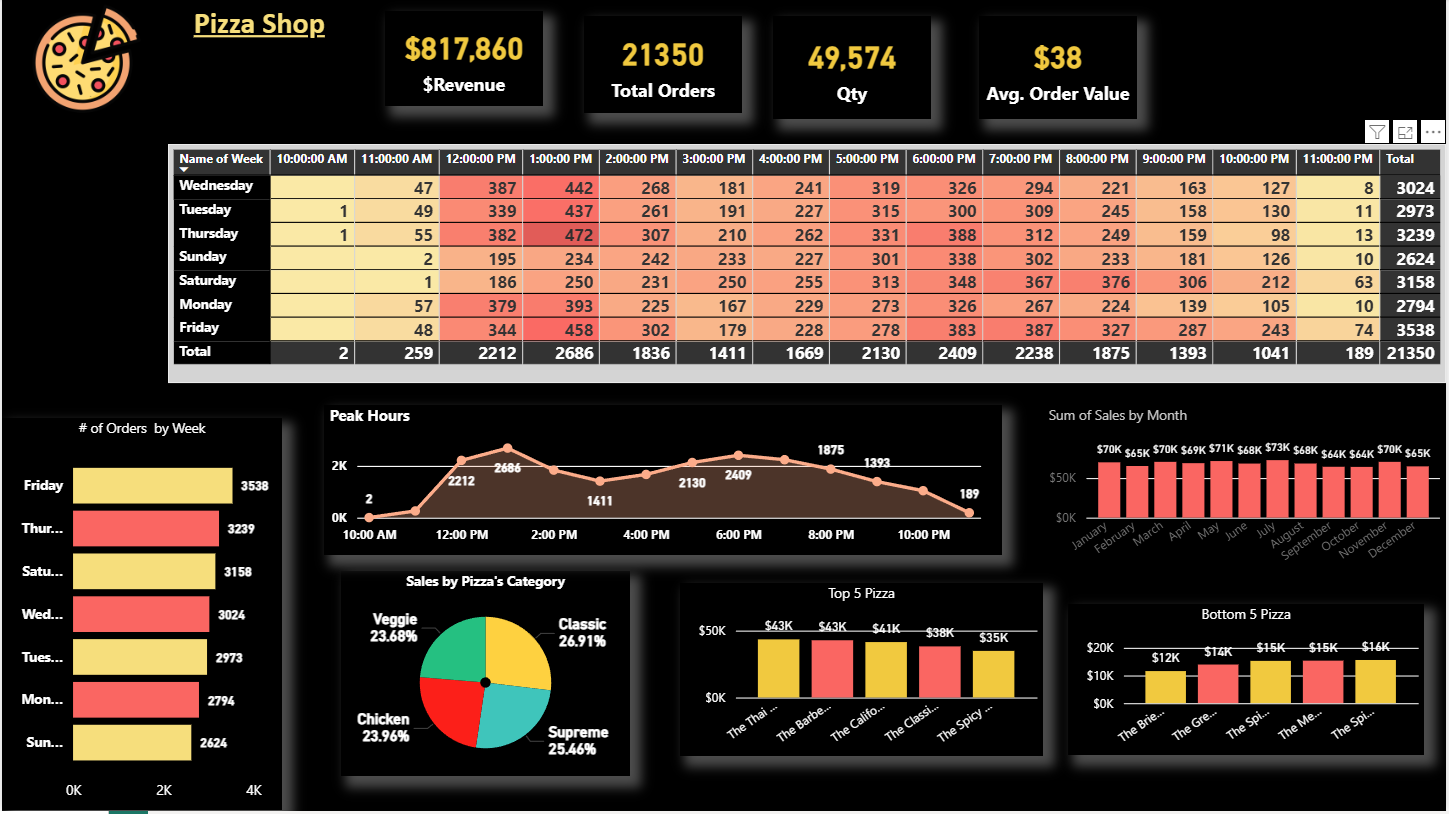

The dashboard page shown, as its layout file describes it:
{"tool":"powerbi","page":{"name":"Duplicate of Page 1","canvas":[1280,720],"ordinal":0},"visuals":[{"type":"card","fields":{"Values":["Sum(order_details.Sales)"]},"box":[339.6,10.6,140.1,84.2],"z":0},{"type":"card","fields":{"Values":["order_details.Total Orders"]},"box":[516.1,15.1,140.1,86],"z":1000},{"type":"card","fields":{"Values":["Sum(order_details.quantity)"]},"box":[683.6,15.1,140.1,91.3],"z":2000},{"type":"donutChart","title":"Sales by Pizza''s Category","fields":{"Category":["pizza_types.category"],"Y":["Sum(order_details.Sales)"]},"box":[300.6,507.2,256.3,181.8],"z":3000},{"type":"areaChart","title":"Peak Hours","fields":{"Category":["orders.Custom_Time"],"Y":["order_details.Number of Orders"]},"box":[285.5,360,601.2,133],"z":4000},{"type":"clusteredBarChart","title":"# of Orders  by Week","fields":{"Category":["orders.Name of Week"],"Y":["order_details.Number of Orders"]},"box":[0,371.5,248.3,348.5],"z":5000},{"type":"pivotTable","fields":{"Rows":["orders.Name of Week"],"Columns":["orders.Custom_Time"],"Values":["Count(orders.order_id)"]},"box":[147.2,128.6,1133.2,211.9],"z":6000},{"type":"image","box":[8.9,0,132.1,106.4],"z":7000},{"type":"textbox","box":[165.2,0,166.4,47],"z":8000},{"type":"card","fields":{"Values":["order_details.Avg. Order Value"]},"box":[866.3,15.1,140.1,91.3],"z":9000},{"type":"columnChart","title":"Top 5 Pizza","fields":{"Category":["pizza_types.name"],"Y":["Sum(order_details.Sales)"]},"box":[601.2,517.8,321.9,152.5],"z":10000},{"type":"columnChart","title":"Bottom 5 Pizza","fields":{"Category":["pizza_types.name"],"Y":["Sum(order_details.Sales)"]},"box":[945.2,536.5,315.7,133.9],"z":11000},{"type":"clusteredColumnChart","fields":{"Category":["orders.date.Variation.Date Hierarchy.Month"],"Y":["Sum(order_details.Sales)"]},"box":[923.1,360,357.3,149.9],"z":12000}]}

Visuals, with their boxes in screenshot pixels (x1, y1, x2, y2), scaled from the page's 1280x720 canvas onto the 1449x814 screenshot:
card - Sum(order_details.Sales): <bbox>384, 12, 543, 107</bbox>
card - order_details.Total Orders: <bbox>584, 17, 743, 114</bbox>
card - Sum(order_details.quantity): <bbox>774, 17, 932, 120</bbox>
"Sales by Pizza''s Category" donutChart: <bbox>340, 573, 630, 779</bbox>
"Peak Hours" areaChart: <bbox>323, 407, 1004, 557</bbox>
"# of Orders  by Week" clusteredBarChart: <bbox>0, 420, 281, 813</bbox>
pivotTable - orders.Name of Week x orders.Custom_Time: <bbox>167, 145, 1448, 385</bbox>
image: <bbox>10, 0, 160, 120</bbox>
textbox: <bbox>187, 0, 375, 53</bbox>
card - order_details.Avg. Order Value: <bbox>981, 17, 1139, 120</bbox>
"Top 5 Pizza" columnChart: <bbox>681, 585, 1045, 758</bbox>
"Bottom 5 Pizza" columnChart: <bbox>1070, 607, 1427, 758</bbox>
clusteredColumnChart - orders.date.Variation.Date Hierarchy.Month x Sum(order_details.Sales): <bbox>1045, 407, 1448, 576</bbox>
